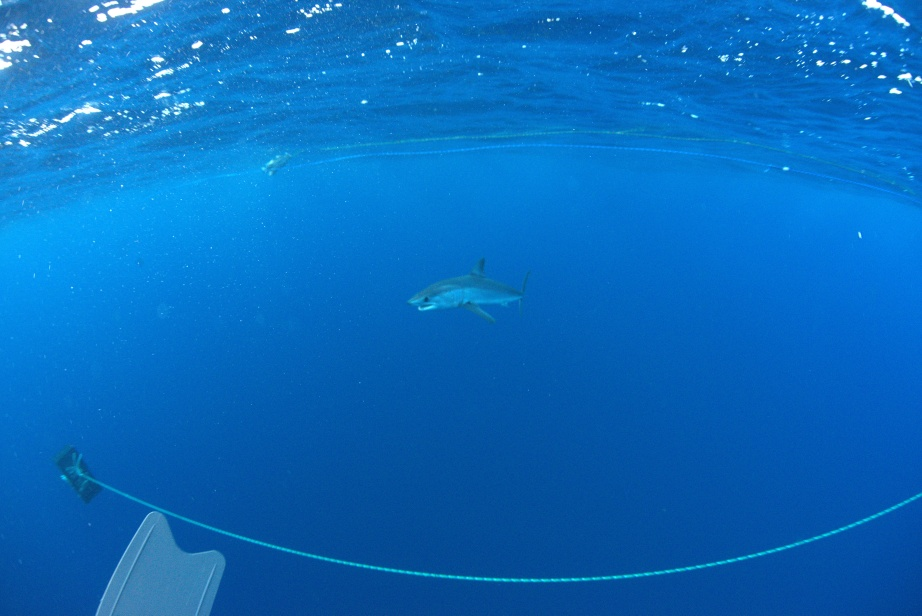Mako: (398, 252, 549, 339)
